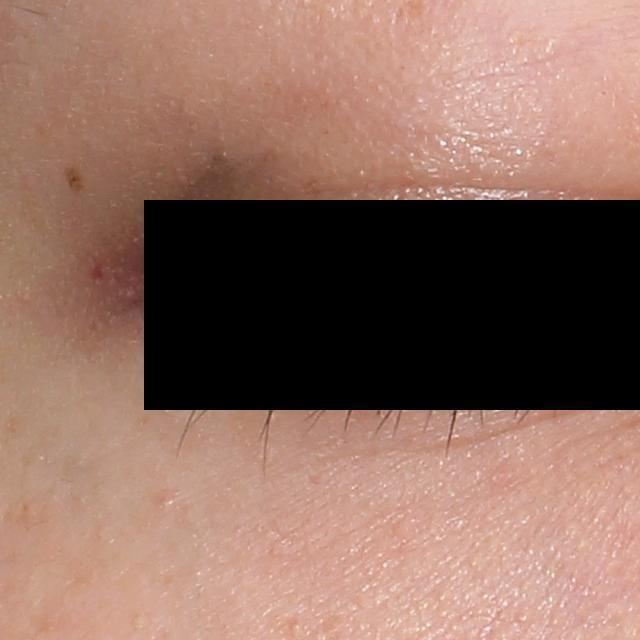comedo: (159, 493, 177, 507)
melasma: (65, 164, 87, 195)
